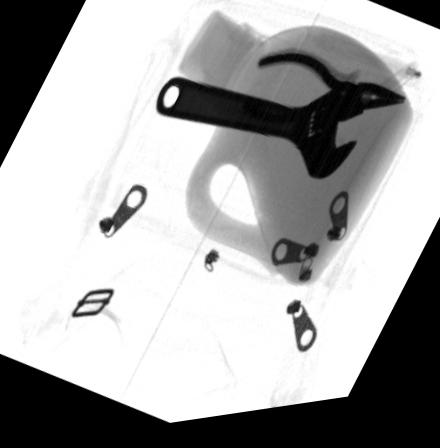Pliers: (241, 57, 406, 135)
Wrench: (156, 82, 370, 189)
